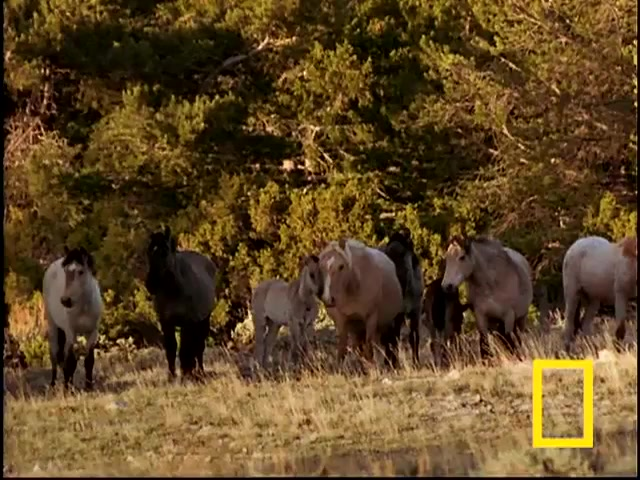horse: (141, 228, 223, 386)
